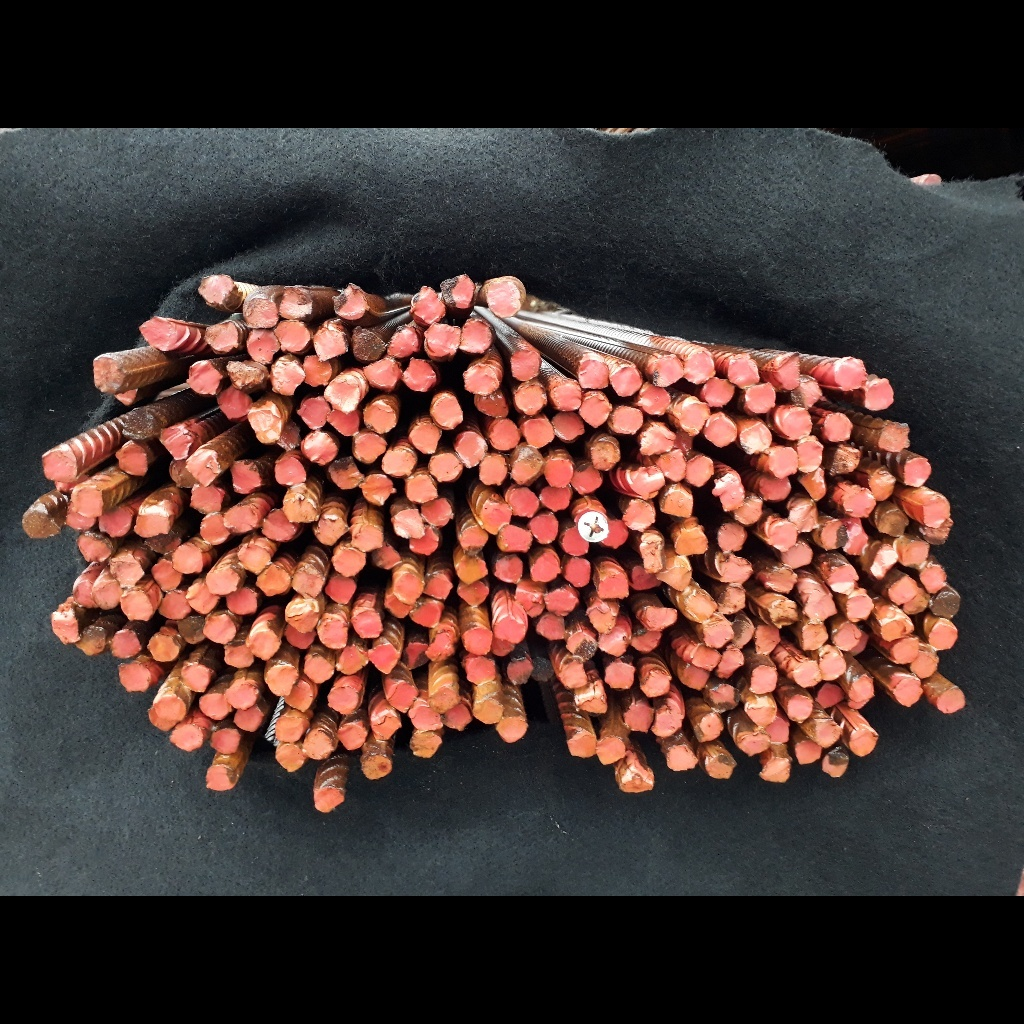dipstick: (768, 403, 813, 442), (654, 548, 692, 593), (616, 753, 656, 794), (485, 277, 523, 319), (672, 395, 709, 437), (711, 472, 745, 515), (248, 400, 281, 444), (440, 272, 478, 310), (323, 377, 362, 414), (411, 285, 447, 325), (429, 392, 465, 432), (270, 354, 305, 395), (872, 501, 909, 539), (186, 447, 222, 486), (22, 503, 61, 539), (138, 316, 178, 351), (91, 353, 125, 394), (363, 356, 401, 392), (548, 374, 583, 413), (511, 444, 543, 486), (425, 322, 462, 358), (400, 357, 437, 393), (577, 392, 613, 429), (767, 351, 801, 390), (260, 507, 299, 541), (41, 448, 80, 482), (713, 552, 753, 585), (131, 507, 175, 537), (216, 385, 252, 421), (203, 320, 240, 355), (116, 441, 153, 476), (333, 282, 367, 320), (197, 274, 236, 307), (97, 506, 137, 538), (351, 325, 386, 361), (464, 362, 500, 397), (703, 411, 738, 447), (285, 598, 320, 634), (186, 578, 221, 614), (314, 324, 348, 361), (301, 432, 338, 466), (241, 296, 279, 329), (362, 399, 397, 434), (682, 349, 717, 384), (278, 285, 314, 319), (789, 375, 825, 409), (738, 420, 774, 454), (120, 407, 157, 440), (409, 420, 442, 457), (514, 382, 547, 419), (638, 423, 675, 456), (231, 458, 264, 495), (76, 532, 115, 563), (389, 508, 428, 539), (458, 319, 492, 354), (726, 354, 760, 389), (477, 500, 512, 534), (119, 589, 154, 623), (362, 472, 396, 507), (274, 320, 310, 353), (518, 417, 555, 449), (108, 556, 145, 588), (328, 456, 365, 488), (227, 360, 265, 391), (875, 607, 914, 637), (188, 361, 222, 395), (622, 498, 656, 532), (895, 536, 929, 570), (392, 571, 426, 605), (588, 436, 621, 471), (683, 588, 716, 623), (264, 662, 297, 697), (835, 356, 867, 392), (632, 464, 664, 500), (577, 680, 609, 716), (821, 743, 852, 780), (622, 698, 653, 735), (191, 483, 228, 514), (419, 499, 457, 529), (74, 625, 108, 658), (257, 564, 291, 597), (353, 432, 388, 464), (485, 419, 520, 451), (458, 524, 490, 559), (408, 698, 443, 730), (118, 662, 153, 694), (574, 510, 610, 541), (516, 581, 547, 617), (315, 515, 352, 545), (637, 383, 670, 416), (828, 443, 861, 476), (386, 681, 419, 714), (577, 359, 611, 391), (608, 365, 642, 397), (655, 449, 687, 483), (876, 419, 910, 451), (842, 487, 876, 519), (718, 519, 750, 553), (826, 563, 860, 595), (804, 591, 838, 623), (291, 566, 325, 598), (386, 326, 421, 357), (684, 454, 715, 489), (335, 644, 370, 675), (50, 611, 81, 646), (225, 586, 260, 617), (71, 486, 106, 517), (497, 524, 533, 554), (144, 530, 187, 555), (756, 474, 793, 503), (606, 405, 643, 434), (550, 412, 587, 441), (870, 543, 899, 580), (705, 683, 742, 712), (170, 542, 207, 571), (297, 397, 330, 429), (653, 355, 685, 388), (891, 675, 923, 708), (651, 708, 684, 740), (150, 559, 182, 592), (203, 613, 236, 645), (247, 627, 280, 659), (199, 512, 231, 545), (508, 350, 542, 381), (660, 488, 694, 519), (147, 632, 181, 663), (161, 427, 192, 461), (572, 460, 602, 495), (674, 527, 709, 557), (504, 487, 539, 517), (316, 619, 351, 649), (701, 378, 737, 407), (157, 591, 193, 620), (330, 547, 366, 576), (325, 409, 362, 437), (223, 504, 260, 532), (640, 531, 665, 572), (367, 643, 399, 675), (301, 353, 332, 386), (847, 726, 878, 759), (426, 630, 457, 663), (283, 679, 314, 712), (324, 573, 357, 604), (275, 454, 308, 485), (478, 453, 508, 487), (692, 712, 726, 742), (529, 553, 563, 583), (462, 655, 496, 685), (405, 473, 439, 503), (238, 544, 272, 574), (63, 501, 97, 531), (867, 467, 896, 502), (736, 727, 771, 756), (454, 556, 489, 585), (544, 588, 579, 617), (843, 517, 869, 556), (796, 436, 823, 473), (642, 605, 679, 632), (492, 553, 523, 585), (371, 711, 403, 742), (328, 685, 360, 716), (303, 652, 335, 683), (301, 729, 333, 760), (765, 564, 798, 594), (666, 743, 699, 773), (529, 511, 559, 544), (336, 721, 369, 751), (409, 730, 443, 759), (199, 692, 233, 721), (475, 392, 510, 420), (818, 645, 846, 680), (204, 764, 239, 792), (429, 453, 464, 481), (701, 753, 737, 780), (170, 724, 206, 751), (207, 568, 243, 595), (284, 498, 320, 525), (929, 588, 960, 619), (717, 584, 748, 615), (786, 694, 817, 725), (604, 659, 635, 690), (560, 526, 591, 557), (181, 661, 212, 692), (765, 446, 797, 476), (544, 456, 574, 488), (818, 518, 848, 550), (886, 575, 918, 605), (865, 378, 894, 411), (789, 500, 818, 533), (928, 620, 957, 653), (410, 600, 443, 629), (745, 701, 779, 729), (716, 643, 744, 677), (845, 588, 872, 623), (754, 622, 781, 657), (225, 683, 260, 710), (821, 412, 852, 442), (767, 520, 798, 550), (274, 743, 305, 773), (111, 629, 142, 659), (747, 665, 779, 694), (565, 731, 597, 760), (535, 612, 567, 641), (731, 498, 764, 526), (678, 663, 711, 691), (494, 617, 527, 645), (351, 611, 384, 639), (596, 571, 630, 598), (596, 629, 630, 656), (472, 698, 506, 725), (831, 621, 861, 651), (494, 717, 530, 742), (282, 624, 318, 649), (782, 541, 813, 570), (770, 598, 799, 629), (210, 727, 241, 756), (234, 705, 265, 734), (410, 526, 439, 557), (920, 497, 952, 525), (887, 636, 919, 664), (934, 686, 966, 714), (810, 719, 842, 747), (759, 756, 791, 784), (641, 670, 673, 698), (506, 656, 534, 688), (155, 694, 187, 722), (559, 559, 592, 586), (353, 526, 386, 553), (630, 564, 664, 590), (223, 642, 257, 668), (745, 384, 775, 413), (691, 642, 721, 671), (178, 615, 208, 644), (904, 456, 932, 487), (597, 737, 628, 765), (462, 627, 493, 655), (370, 542, 401, 570), (313, 785, 345, 812), (423, 573, 455, 600), (919, 520, 952, 546), (428, 686, 461, 712), (360, 754, 393, 780), (629, 629, 663, 654), (557, 660, 587, 688), (600, 520, 628, 550), (703, 620, 733, 648), (94, 580, 122, 610), (910, 646, 937, 677), (800, 621, 827, 652), (801, 469, 827, 501), (849, 675, 875, 707), (588, 602, 614, 634), (145, 706, 178, 731), (733, 610, 755, 647), (792, 660, 821, 688), (168, 460, 196, 489), (920, 564, 947, 594), (540, 487, 573, 511), (444, 703, 472, 731), (402, 642, 430, 670), (794, 739, 823, 766), (275, 716, 305, 742), (70, 583, 101, 608), (528, 654, 555, 682), (384, 593, 413, 619), (49, 476, 90, 493), (904, 586, 928, 615), (817, 683, 846, 707), (765, 717, 790, 742), (491, 636, 516, 657), (111, 388, 138, 405)
